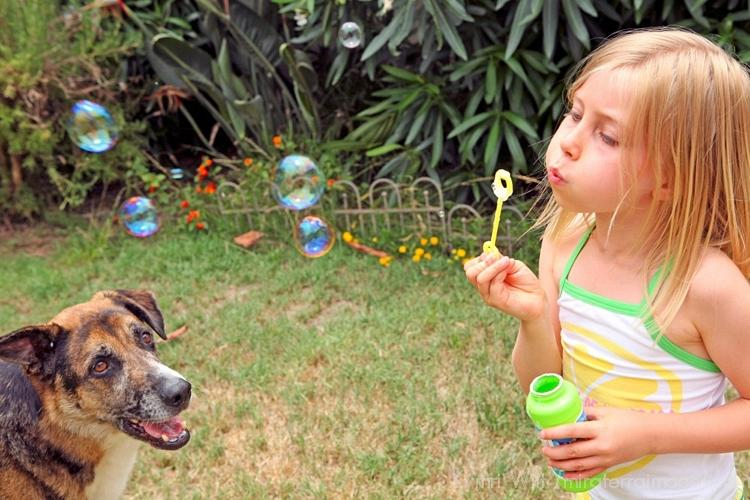person: (452, 26, 750, 500)
